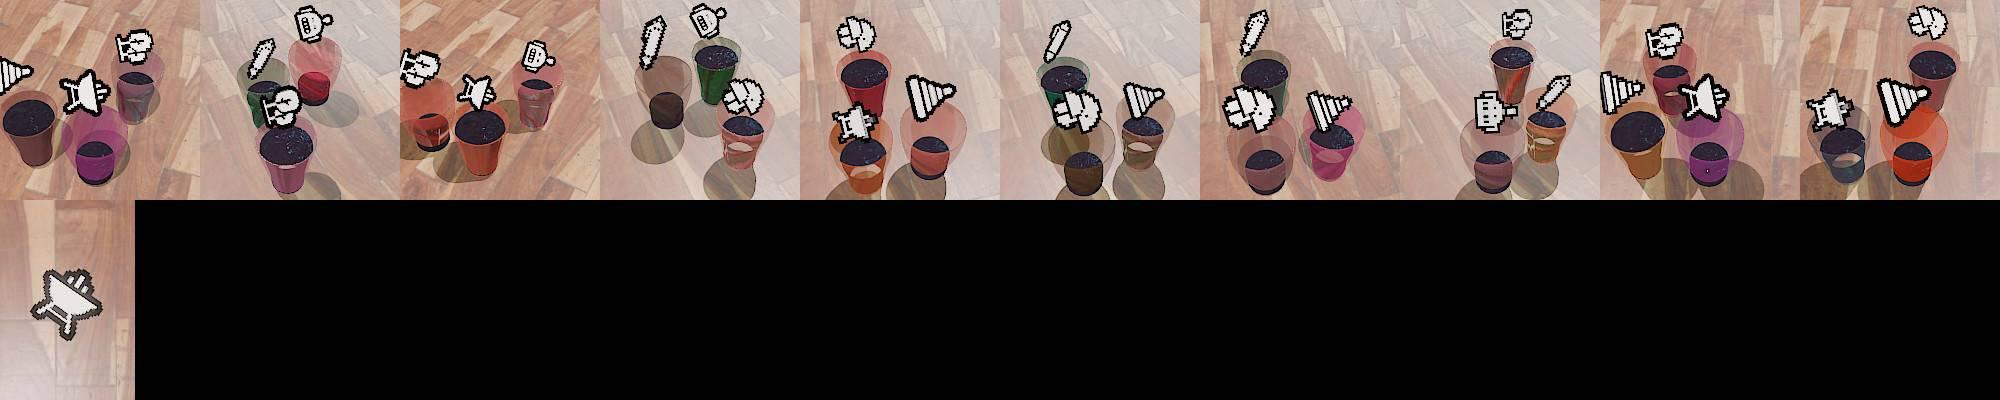icon: (28, 265, 104, 340), (1677, 72, 1732, 123), (1876, 76, 1931, 126), (1221, 84, 1275, 132), (59, 68, 110, 118), (1805, 85, 1857, 133), (906, 74, 958, 120), (1050, 88, 1102, 133), (1304, 88, 1354, 134), (1601, 69, 1647, 115), (1473, 89, 1518, 134), (830, 102, 878, 143), (721, 76, 766, 117), (1123, 80, 1166, 122), (637, 14, 668, 72), (399, 47, 441, 89), (261, 85, 302, 127), (1532, 73, 1573, 115), (836, 15, 876, 55), (457, 72, 497, 112), (687, 2, 729, 40), (293, 5, 333, 44), (1239, 10, 1269, 61), (1041, 17, 1072, 65), (115, 28, 155, 65), (1644, 22, 1684, 59), (1908, 6, 1951, 40), (0, 56, 35, 97), (246, 37, 277, 82), (520, 39, 556, 74), (1501, 8, 1534, 40)
